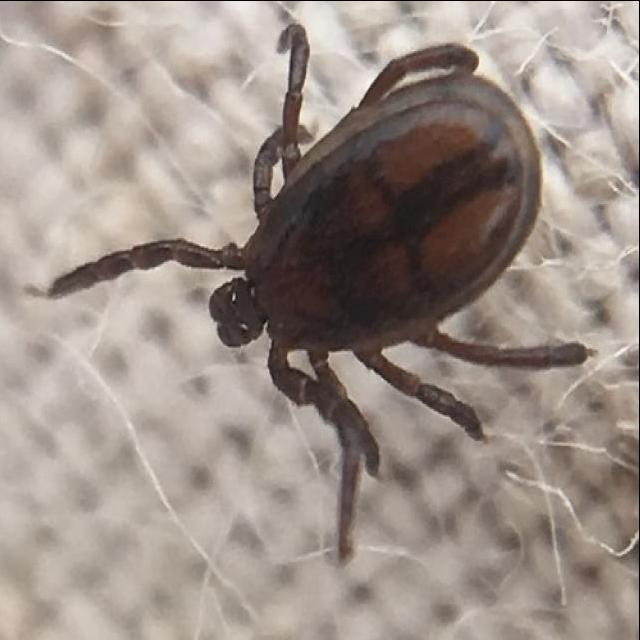Ixodes Ricinus-M: (46, 19, 594, 563)
